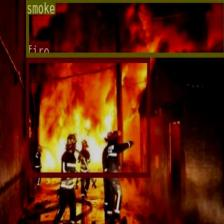fire: (25, 57, 150, 177)
smoke: (25, 0, 224, 56)
